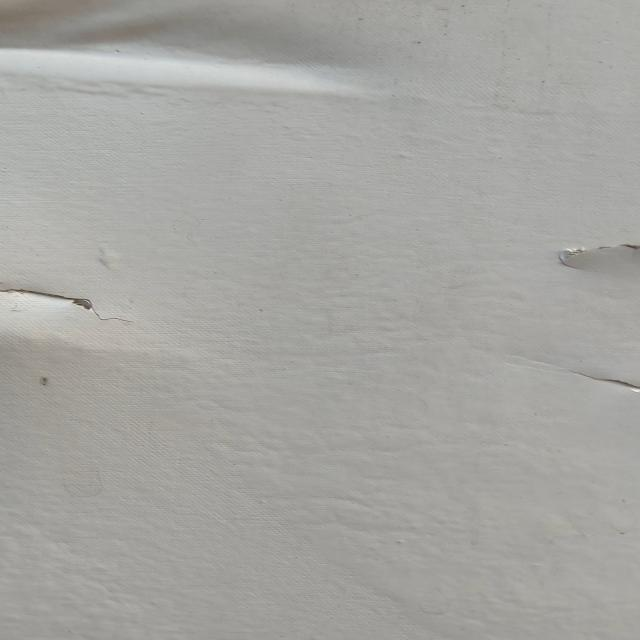Dents or Deformation: (1, 2, 406, 109)
Scratches: (1, 270, 141, 339), (518, 230, 640, 283), (558, 351, 640, 413)
